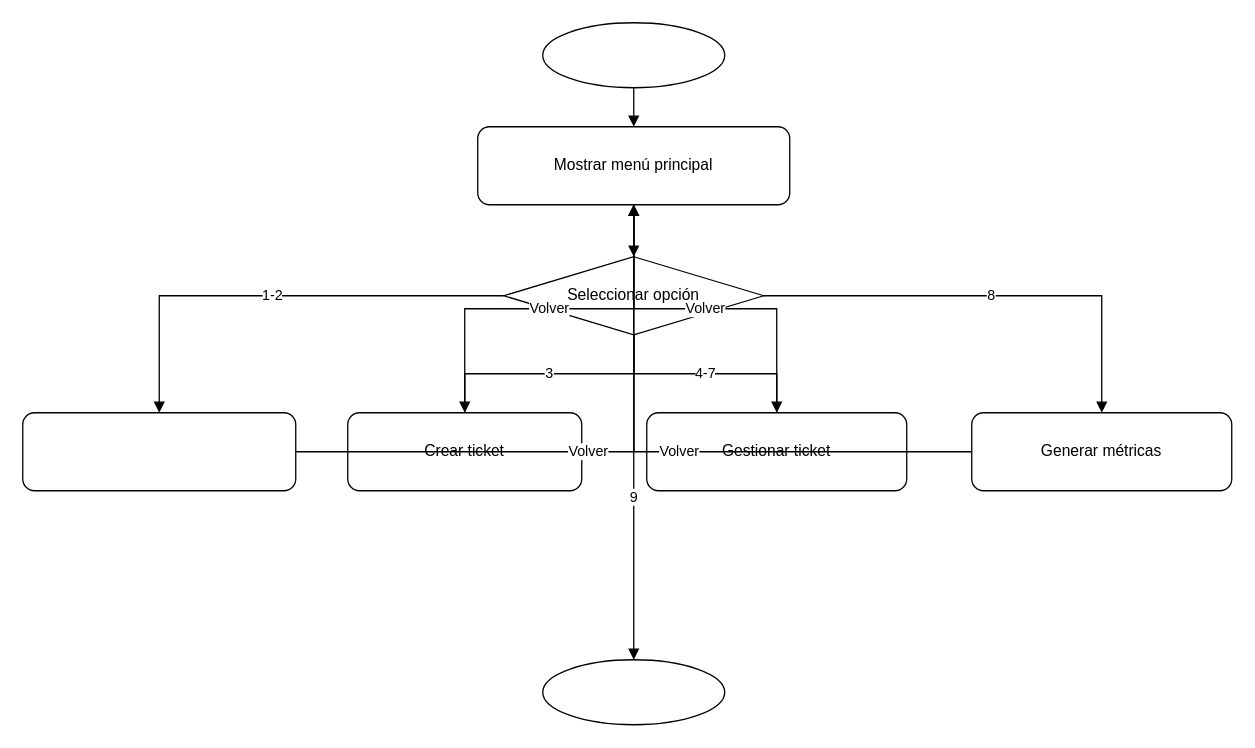
The diagram is 1255 pixels wide and 748 high, and some of its shapes have lost their labels. Each missing label, with the box of its shape:
Inicio: (541, 21, 725, 88)
Salir: (541, 658, 725, 725)
Ver usuarios / flujo: (21, 411, 296, 491)
